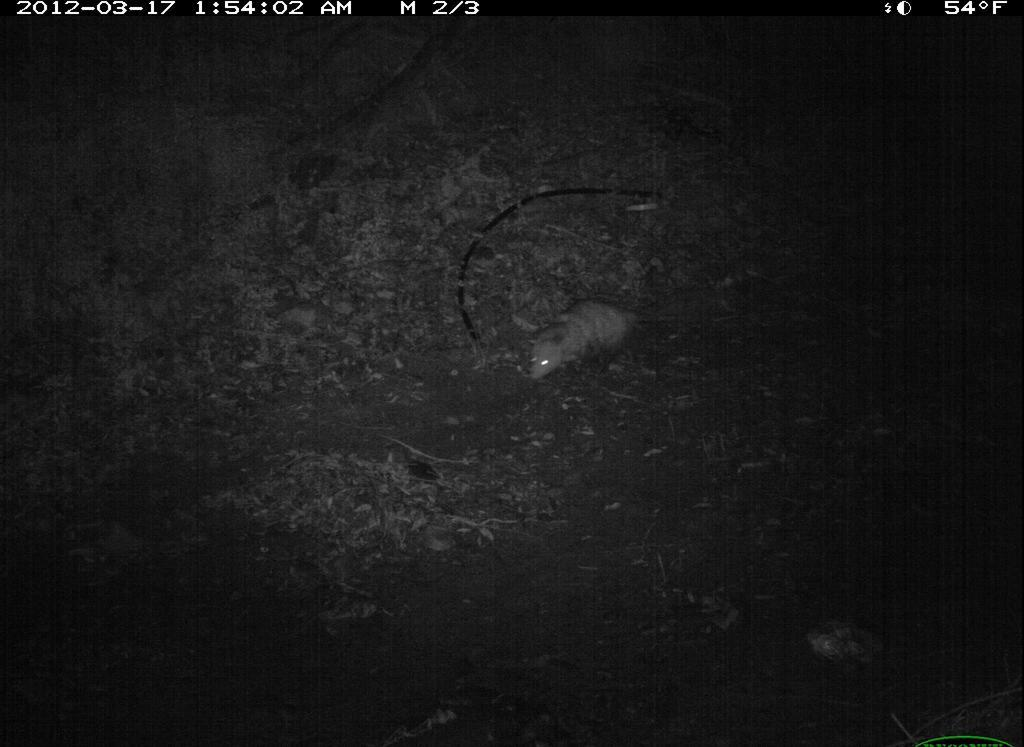opossum: (510, 283, 658, 402)
